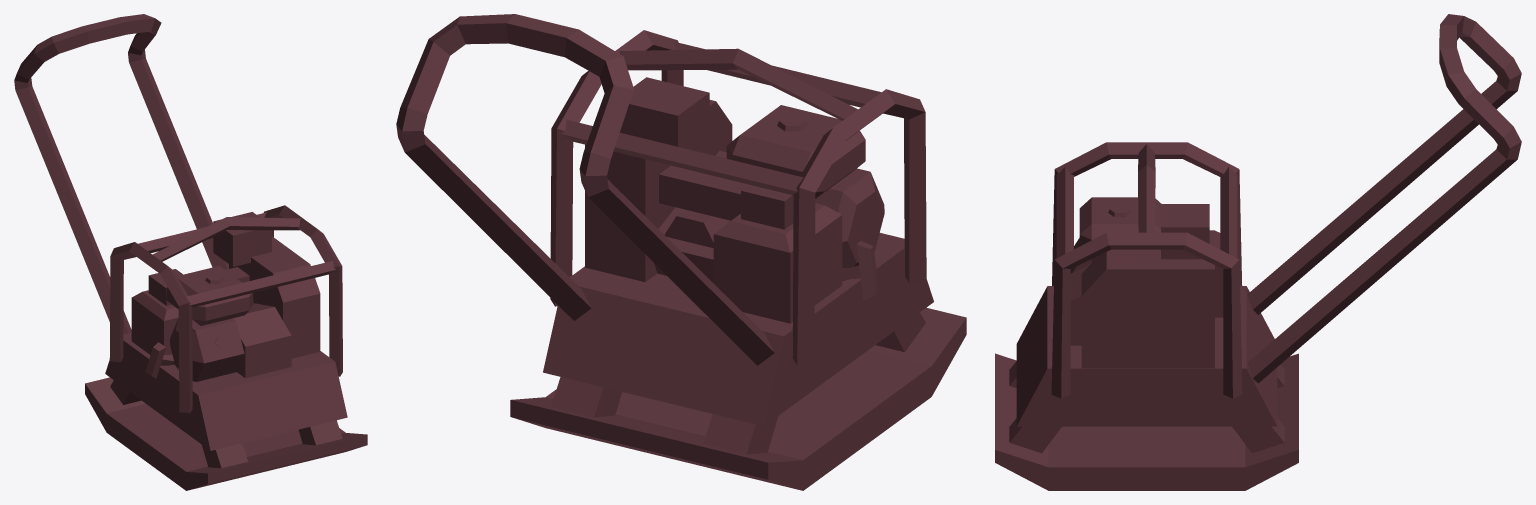
The model's file is plate-compactor.fbx.
3 views of the same model, side by side, from view 1: azimuth 30°, elevation 25°; view 2: azimuth 150°, elevation 25°; view 3: azimuth 270°, elevation 25° (orthographic). The views are drawn at different scales.
Visible parts, largest first — view 1: plate-compactor; view 2: plate-compactor; view 3: plate-compactor.
Part boxes in pixels (<box>): plate-compactor: <box>14,14,367,490</box>; plate-compactor: <box>396,14,966,490</box>; plate-compactor: <box>995,14,1521,490</box>.
Size of the model in its own units: 0.5577 by 1.06 by 1.25.
